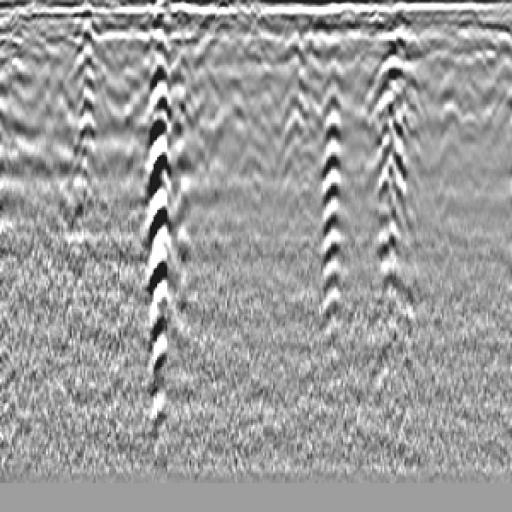metalic: (364, 43, 424, 328)
